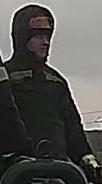gloves: (81, 153, 101, 183)
helmet: (24, 6, 55, 31)
vest: (2, 56, 74, 161)
